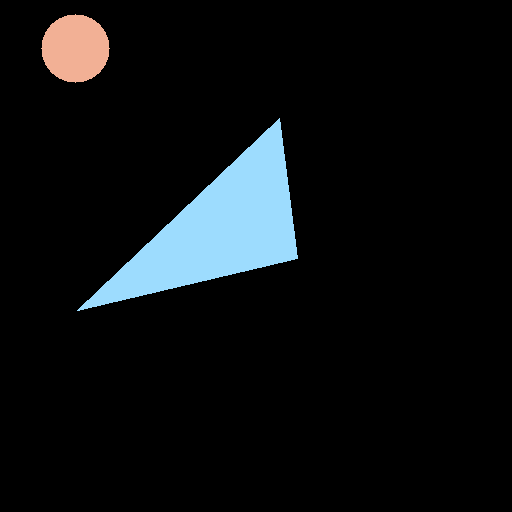circle: (41, 14, 109, 82)
triangle: (77, 118, 297, 310)
